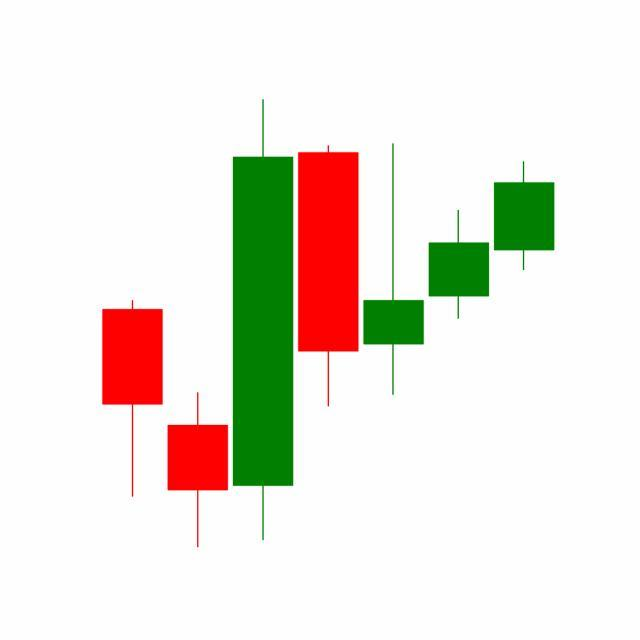Hikkake Pattern: (229, 100, 555, 546)
